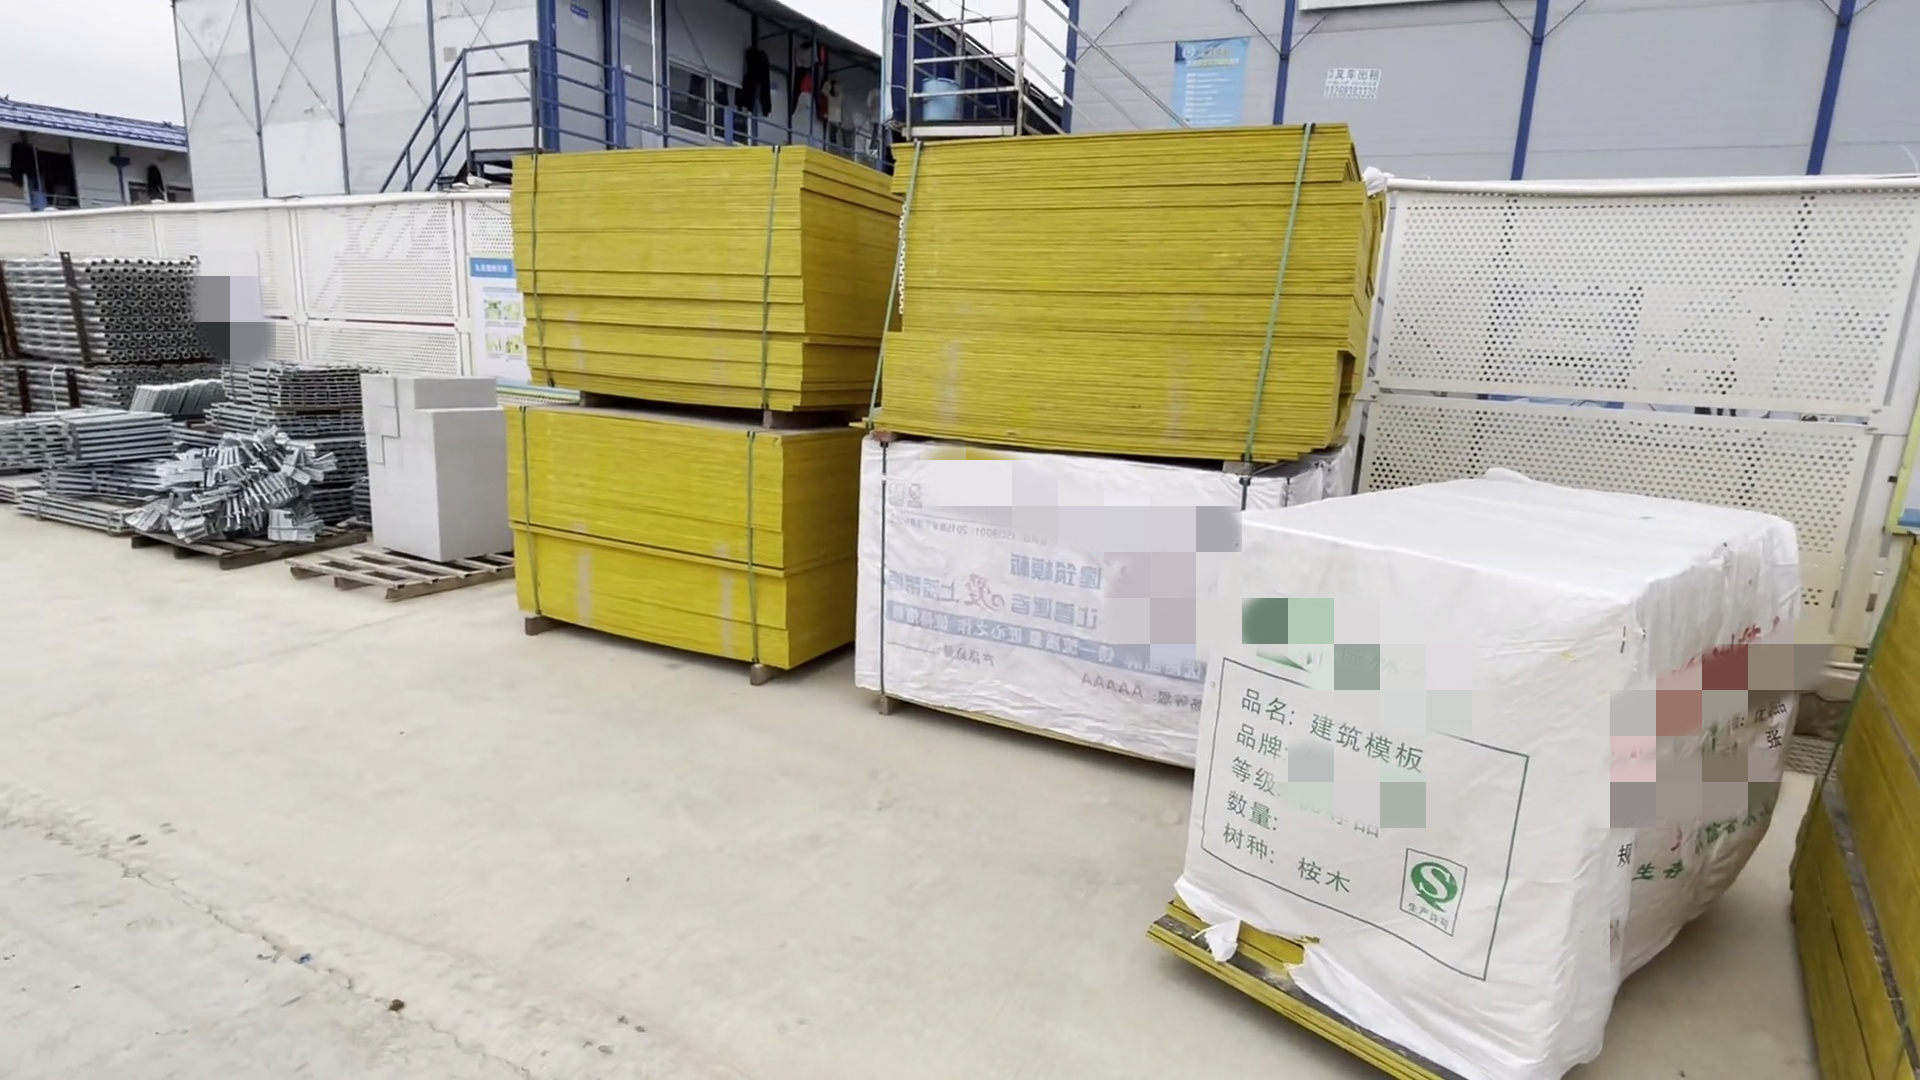board: (506, 146, 837, 673), (872, 138, 1378, 468)
